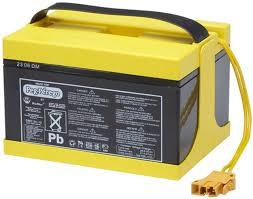battery: (0, 3, 248, 178)
